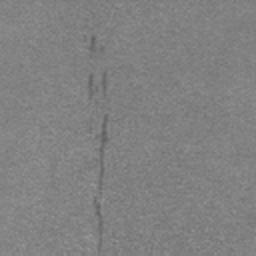Red iron sheet: (98, 114, 109, 190), (93, 197, 103, 235), (88, 74, 94, 99), (89, 35, 96, 53), (102, 72, 107, 92)
